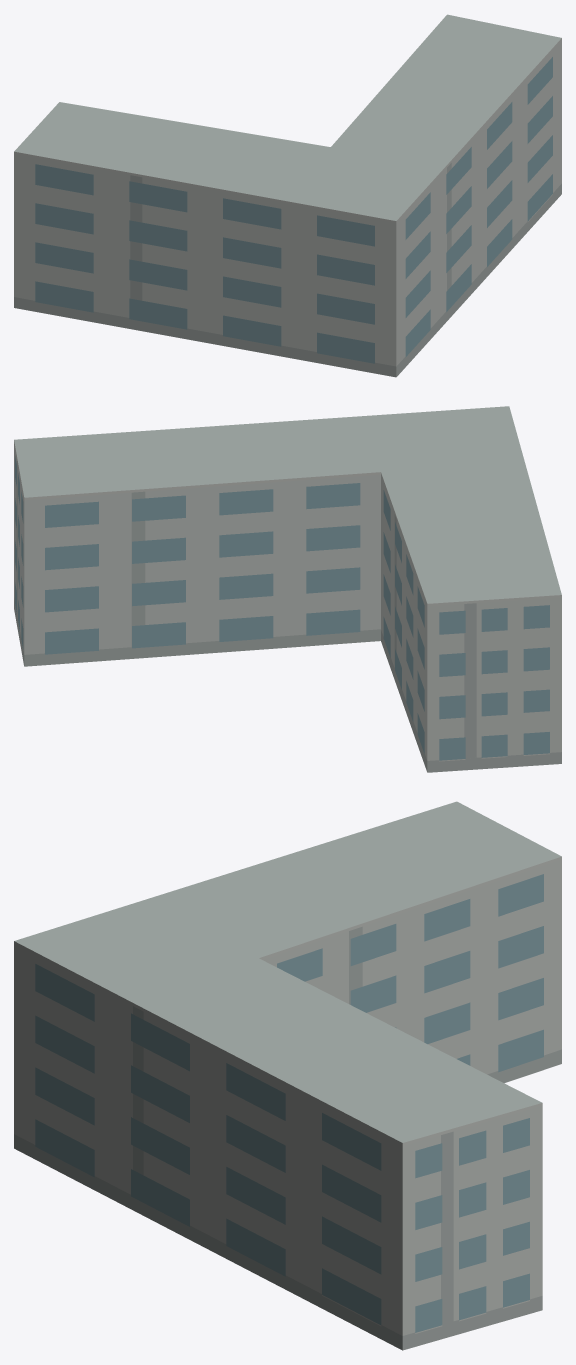
File: residential-816873be-ae53-45cb-887d-31a21ec1d7a6.glb
3 views of the same model, one above another, from view 1: azimuth 30°, elevation 25°; view 2: azimuth 150°, elevation 25°; view 3: azimuth 270°, elevation 25° (orthographic). The views are drawn at different scales.
Visible parts, largest first — view 1: residential-816873be-ae53-45cb-887d-31a21ec1d7a6.tmp; view 2: residential-816873be-ae53-45cb-887d-31a21ec1d7a6.tmp; view 3: residential-816873be-ae53-45cb-887d-31a21ec1d7a6.tmp.
Boxes of the visible parts, x1,y1,x2,y2 form: residential-816873be-ae53-45cb-887d-31a21ec1d7a6.tmp: [14, 14, 561, 377]; residential-816873be-ae53-45cb-887d-31a21ec1d7a6.tmp: [14, 406, 561, 772]; residential-816873be-ae53-45cb-887d-31a21ec1d7a6.tmp: [14, 801, 561, 1350].
Bounding box in the file's own units: 56.51 × 16 × 38.3.
